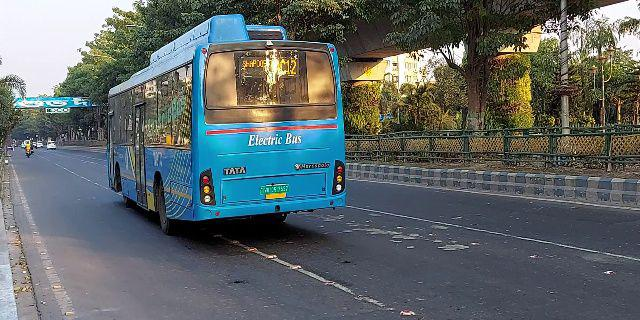Bus: (105, 14, 350, 240)
